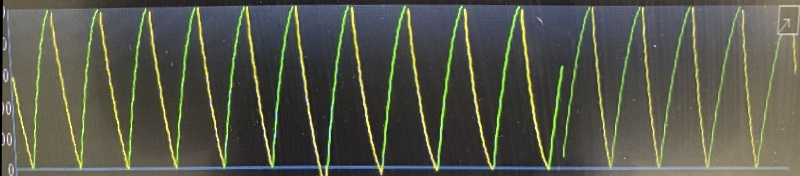normal_volume: (14, 1, 771, 176)
